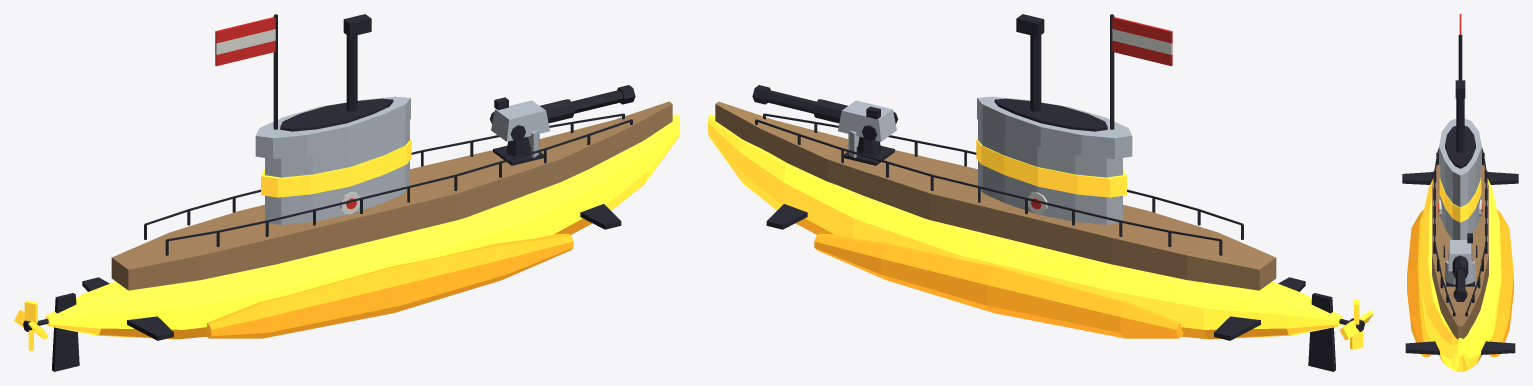
Rendered from uboat_gold.glb.
3 renders of one model, left to right at view 1: azimuth 30°, elevation 25°; view 2: azimuth 150°, elevation 25°; view 3: azimuth 270°, elevation 25°, orthographic. The views are drawn at different scales.
Visible parts, largest first — view 1: Hull, GunBarrel, GunRecoil, Periscope, Rudder, Gun, SternPlanes, FlagCloth3, Propeller, FlagCloth2, FlagCloth1, BowPlanes; view 2: Hull, GunBarrel, GunRecoil, Periscope, Rudder, Gun, SternPlanes, FlagCloth3, Propeller, FlagCloth2, FlagCloth1, BowPlanes; view 3: Hull, BowPlanes, SternPlanes, Periscope, GunBarrel, GunRecoil, Gun, Flag.
Part boxes in pixels (bbox=[...]): Hull: bbox=[38, 96, 679, 339]; GunBarrel: bbox=[490, 97, 549, 141]; GunRecoil: bbox=[540, 85, 635, 123]; Periscope: bbox=[343, 14, 371, 111]; Rudder: bbox=[52, 293, 79, 371]; Gun: bbox=[493, 130, 543, 165]; SternPlanes: bbox=[82, 277, 173, 340]; FlagCloth3: bbox=[215, 26, 237, 66]; Propeller: bbox=[14, 300, 48, 350]; FlagCloth2: bbox=[236, 21, 256, 61]; FlagCloth1: bbox=[256, 17, 275, 56]; BowPlanes: bbox=[580, 204, 621, 229]; Hull: bbox=[708, 96, 1349, 339]; GunBarrel: bbox=[838, 100, 897, 141]; GunRecoil: bbox=[752, 85, 847, 123]; Periscope: bbox=[1016, 14, 1044, 111]; Rudder: bbox=[1308, 293, 1335, 371]; Gun: bbox=[844, 130, 894, 165]; SternPlanes: bbox=[1214, 277, 1305, 340]; FlagCloth3: bbox=[1151, 26, 1172, 66]; Propeller: bbox=[1339, 299, 1373, 349]; FlagCloth2: bbox=[1131, 21, 1151, 61]; FlagCloth1: bbox=[1112, 17, 1131, 56]; BowPlanes: bbox=[766, 204, 807, 229]; Hull: bbox=[1407, 119, 1513, 371]; BowPlanes: bbox=[1405, 341, 1515, 354]; SternPlanes: bbox=[1402, 172, 1518, 184]; Periscope: bbox=[1455, 80, 1465, 152]; GunBarrel: bbox=[1443, 233, 1477, 271]; GunRecoil: bbox=[1452, 255, 1468, 301]; Gun: bbox=[1445, 261, 1475, 286]; Flag: bbox=[1458, 34, 1462, 80].
Size of the model in its own units: 1.8 by 0.8022 by 0.36.
